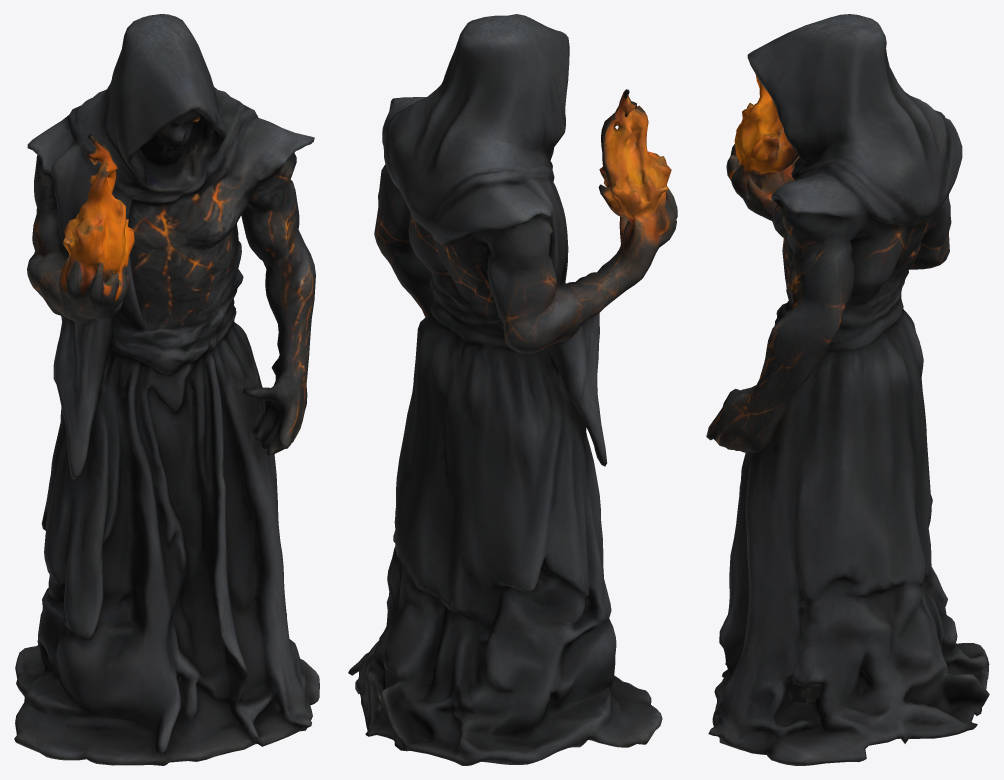
File: ashen_pyromancer.glb
3 views of the same model, side by side, from view 1: azimuth 30°, elevation 25°; view 2: azimuth 150°, elevation 25°; view 3: azimuth 270°, elevation 25° (orthographic).
Size of the model in its own units: 0.8777 by 2 by 0.7487.
Materials: 1 (1 with a texture image).
